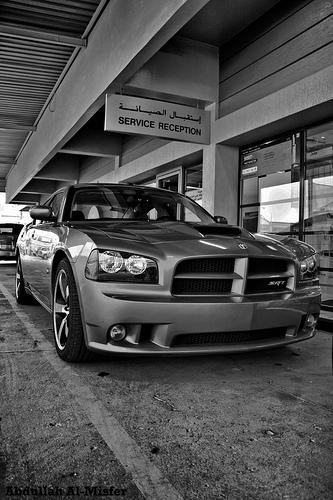car: (12, 179, 326, 367)
